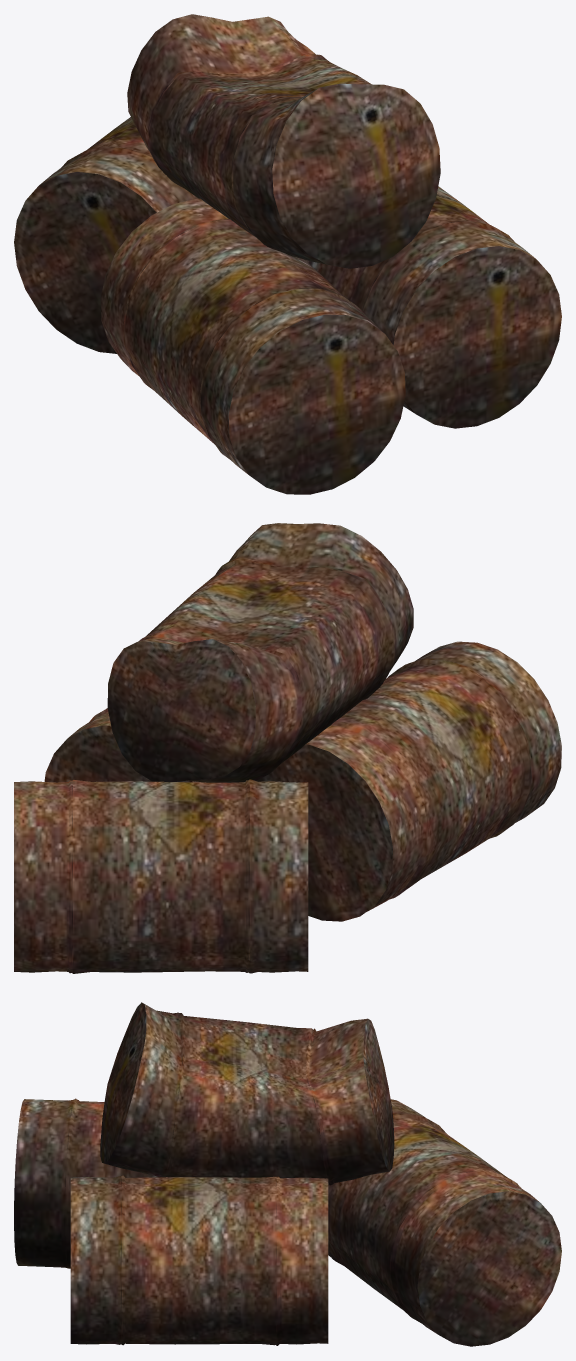
The model's file is barriles_abajo_del_agua.glb.
3 views of the same model, one above another, from view 1: azimuth 30°, elevation 25°; view 2: azimuth 150°, elevation 25°; view 3: azimuth 270°, elevation 25° (orthographic). The views are drawn at different scales.
Visible parts, largest first — view 1: barrels_obj; view 2: barrels_obj; view 3: barrels_obj.
Part boxes in pixels (x1=…): barrels_obj: x1=14, y1=14, x2=561, y2=494; barrels_obj: x1=14, y1=523, x2=561, y2=973; barrels_obj: x1=14, y1=1002, x2=561, y2=1346.
Size of the model in its own units: 5.02 by 4.49 by 7.78.
1 material, 1 textured.
